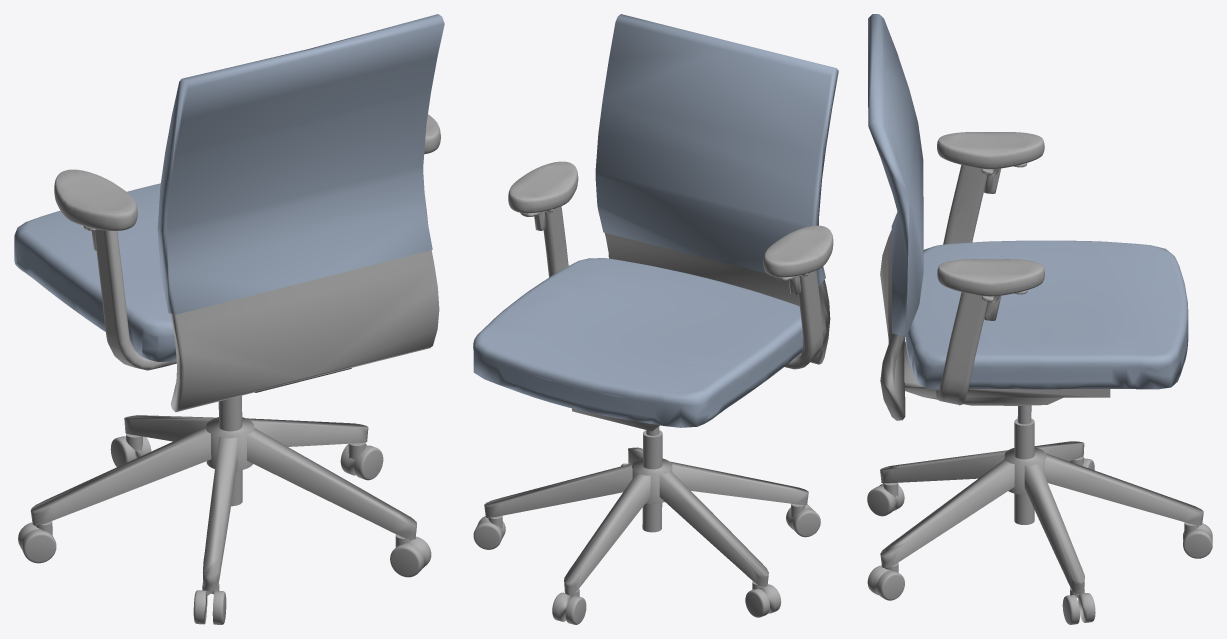
Rendered from chair_2_m.fbx.
3 renders of one model, left to right at view 1: azimuth 30°, elevation 25°; view 2: azimuth 150°, elevation 25°; view 3: azimuth 270°, elevation 25°, orthographic. The views are drawn at different scales.
Visible parts, largest first — view 1: Mesh359 Obj_000026_1 skp8D7_1 Group141 Group2 Group1 Model, Mesh344 Obj_000005_1 skp8D7_1 Group141 Group2 Group1 Model, Chair_2, Mesh370 Obj_000022_1 skp8D7_1 Group141 Group2 Group1 Model, Mesh346 Obj_000009_1 skp8D7_1 Group141 Group2 Group1 Model, Mesh365 Obj_000038_1 skp8D7_1 Group141 Group2 Group1 Model, Mesh375 skp8D7_1 Group141 Group2 Group1 Model, Mesh360 Obj_000028_1 skp8D7_1 Group141 Group2 Group1 Model, Mesh368 Obj_000033_1 skp8D7_1 Group141 Group2 Group1 Model, Mesh369 Obj_000023_1 skp8D7_1 Group141 Group2 Group1 Model, Mesh345 Obj_000006_1 skp8D7_1 Group141 Group2 Group1 Model, Mesh340 Group143 skp8D7_1 Group141 Group2 Group1 Model (+3 smaller); view 2: Mesh359 Obj_000026_1 skp8D7_1 Group141 Group2 Group1 Model, Chair_2, Mesh344 Obj_000005_1 skp8D7_1 Group141 Group2 Group1 Model, Mesh370 Obj_000022_1 skp8D7_1 Group141 Group2 Group1 Model, Mesh368 Obj_000033_1 skp8D7_1 Group141 Group2 Group1 Model, Mesh375 skp8D7_1 Group141 Group2 Group1 Model, Mesh369 Obj_000023_1 skp8D7_1 Group141 Group2 Group1 Model, Mesh360 Obj_000028_1 skp8D7_1 Group141 Group2 Group1 Model, Mesh364 Obj_000037_1 skp8D7_1 Group141 Group2 Group1 Model, Mesh365 Obj_000038_1 skp8D7_1 Group141 Group2 Group1 Model, Mesh340 Group143 skp8D7_1 Group141 Group2 Group1 Model, Mesh345 Obj_000006_1 skp8D7_1 Group141 Group2 Group1 Model (+3 smaller); view 3: Chair_2, Mesh359 Obj_000026_1 skp8D7_1 Group141 Group2 Group1 Model, Mesh375 skp8D7_1 Group141 Group2 Group1 Model, Mesh346 Obj_000009_1 skp8D7_1 Group141 Group2 Group1 Model, Mesh369 Obj_000023_1 skp8D7_1 Group141 Group2 Group1 Model, Mesh364 Obj_000037_1 skp8D7_1 Group141 Group2 Group1 Model, Mesh365 Obj_000038_1 skp8D7_1 Group141 Group2 Group1 Model, Mesh368 Obj_000033_1 skp8D7_1 Group141 Group2 Group1 Model, Mesh357 Obj_000024_1 skp8D7_1 Group141 Group2 Group1 Model, Mesh344 Obj_000005_1 skp8D7_1 Group141 Group2 Group1 Model, Mesh360 Obj_000028_1 skp8D7_1 Group141 Group2 Group1 Model, Mesh340 Group143 skp8D7_1 Group141 Group2 Group1 Model (+5 smaller).
Boxes of the visible parts, bbox=[...] form: Mesh359 Obj_000026_1 skp8D7_1 Group141 Group2 Group1 Model: bbox=[157, 14, 444, 314]; Mesh344 Obj_000005_1 skp8D7_1 Group141 Group2 Group1 Model: bbox=[170, 250, 439, 412]; Chair_2: bbox=[14, 183, 176, 361]; Mesh370 Obj_000022_1 skp8D7_1 Group141 Group2 Group1 Model: bbox=[30, 427, 211, 525]; Mesh346 Obj_000009_1 skp8D7_1 Group141 Group2 Group1 Model: bbox=[246, 428, 416, 539]; Mesh365 Obj_000038_1 skp8D7_1 Group141 Group2 Group1 Model: bbox=[54, 169, 137, 230]; Mesh375 skp8D7_1 Group141 Group2 Group1 Model: bbox=[94, 195, 428, 370]; Mesh360 Obj_000028_1 skp8D7_1 Group141 Group2 Group1 Model: bbox=[202, 437, 237, 590]; Mesh368 Obj_000033_1 skp8D7_1 Group141 Group2 Group1 Model: bbox=[246, 418, 368, 446]; Mesh369 Obj_000023_1 skp8D7_1 Group141 Group2 Group1 Model: bbox=[124, 415, 215, 441]; Mesh345 Obj_000006_1 skp8D7_1 Group141 Group2 Group1 Model: bbox=[206, 417, 253, 470]; Mesh340 Group143 skp8D7_1 Group141 Group2 Group1 Model: bbox=[218, 395, 242, 506]; Mesh359 Obj_000026_1 skp8D7_1 Group141 Group2 Group1 Model: bbox=[595, 14, 838, 286]; Chair_2: bbox=[473, 258, 802, 427]; Mesh344 Obj_000005_1 skp8D7_1 Group141 Group2 Group1 Model: bbox=[604, 233, 830, 364]; Mesh370 Obj_000022_1 skp8D7_1 Group141 Group2 Group1 Model: bbox=[659, 470, 768, 586]; Mesh368 Obj_000033_1 skp8D7_1 Group141 Group2 Group1 Model: bbox=[484, 463, 632, 517]; Mesh375 skp8D7_1 Group141 Group2 Group1 Model: bbox=[543, 206, 823, 369]; Mesh369 Obj_000023_1 skp8D7_1 Group141 Group2 Group1 Model: bbox=[564, 473, 650, 594]; Mesh360 Obj_000028_1 skp8D7_1 Group141 Group2 Group1 Model: bbox=[670, 461, 808, 505]; Mesh364 Obj_000037_1 skp8D7_1 Group141 Group2 Group1 Model: bbox=[508, 161, 578, 213]; Mesh365 Obj_000038_1 skp8D7_1 Group141 Group2 Group1 Model: bbox=[763, 225, 833, 277]; Mesh340 Group143 skp8D7_1 Group141 Group2 Group1 Model: bbox=[642, 430, 662, 532]; Mesh345 Obj_000006_1 skp8D7_1 Group141 Group2 Group1 Model: bbox=[632, 458, 672, 503]; Chair_2: bbox=[905, 240, 1188, 389]; Mesh359 Obj_000026_1 skp8D7_1 Group141 Group2 Group1 Model: bbox=[868, 14, 923, 336]; Mesh375 skp8D7_1 Group141 Group2 Group1 Model: bbox=[936, 165, 987, 405]; Mesh346 Obj_000009_1 skp8D7_1 Group141 Group2 Group1 Model: bbox=[880, 459, 1014, 567]; Mesh369 Obj_000023_1 skp8D7_1 Group141 Group2 Group1 Model: bbox=[1045, 453, 1203, 525]; Mesh364 Obj_000037_1 skp8D7_1 Group141 Group2 Group1 Model: bbox=[937, 259, 1044, 296]; Mesh365 Obj_000038_1 skp8D7_1 Group141 Group2 Group1 Model: bbox=[937, 132, 1044, 169]; Mesh368 Obj_000033_1 skp8D7_1 Group141 Group2 Group1 Model: bbox=[1024, 463, 1084, 594]; Mesh357 Obj_000024_1 skp8D7_1 Group141 Group2 Group1 Model: bbox=[904, 341, 1110, 405]; Mesh344 Obj_000005_1 skp8D7_1 Group141 Group2 Group1 Model: bbox=[880, 230, 905, 420]; Mesh360 Obj_000028_1 skp8D7_1 Group141 Group2 Group1 Model: bbox=[880, 450, 1007, 483]; Mesh340 Group143 skp8D7_1 Group141 Group2 Group1 Model: bbox=[1014, 418, 1034, 524].
Bounding box in the file's own units: 68.11 × 99.84 × 64.22.
